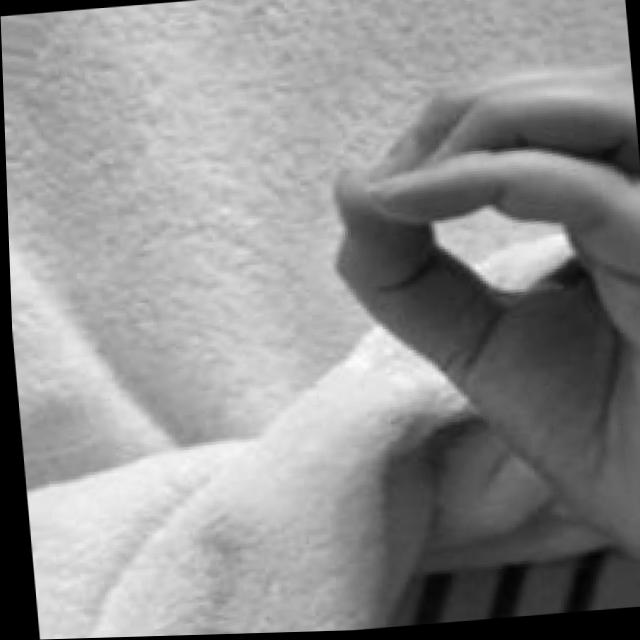O: (312, 44, 640, 630)
